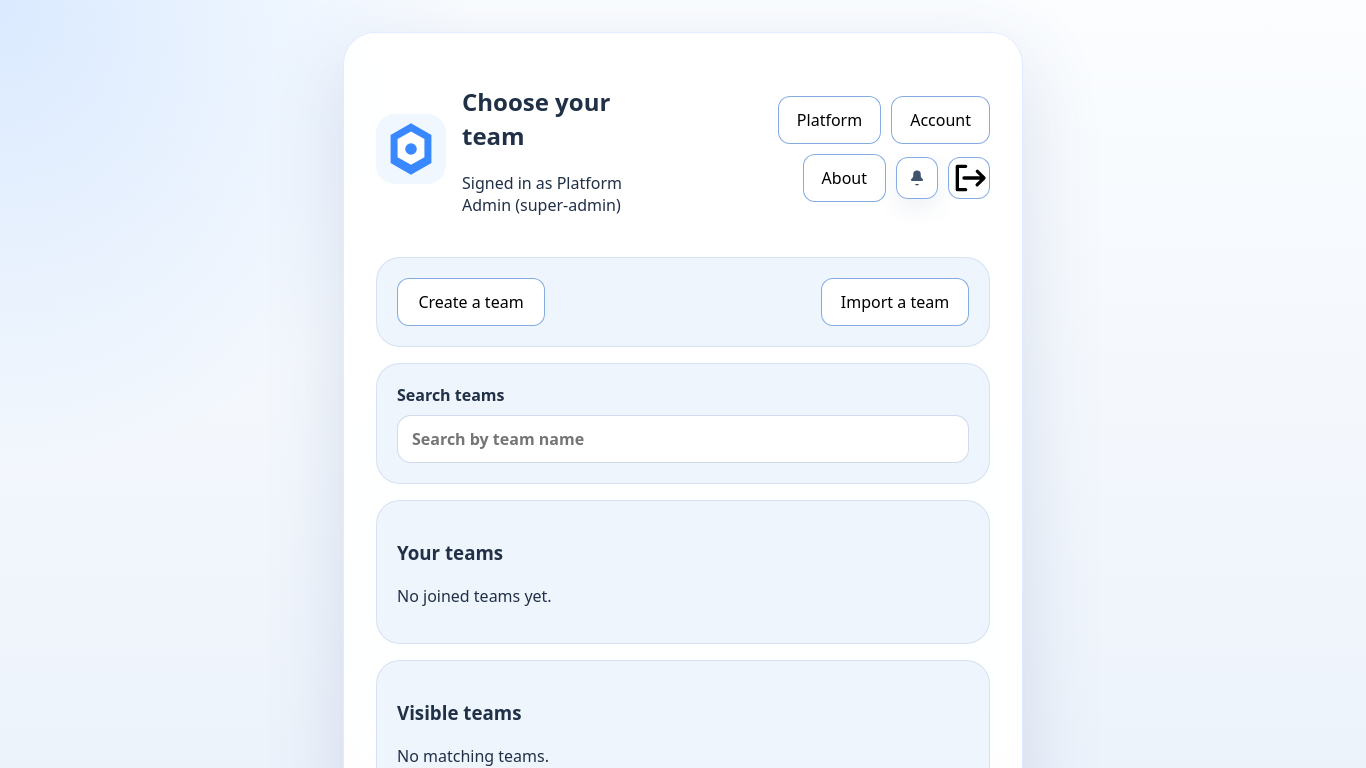
Test case: App › shows demo teams in the chooser after the super-admin enables demo mode
Step 1. Click the button "Platform" → point(830, 120), box [778,96,881,144]
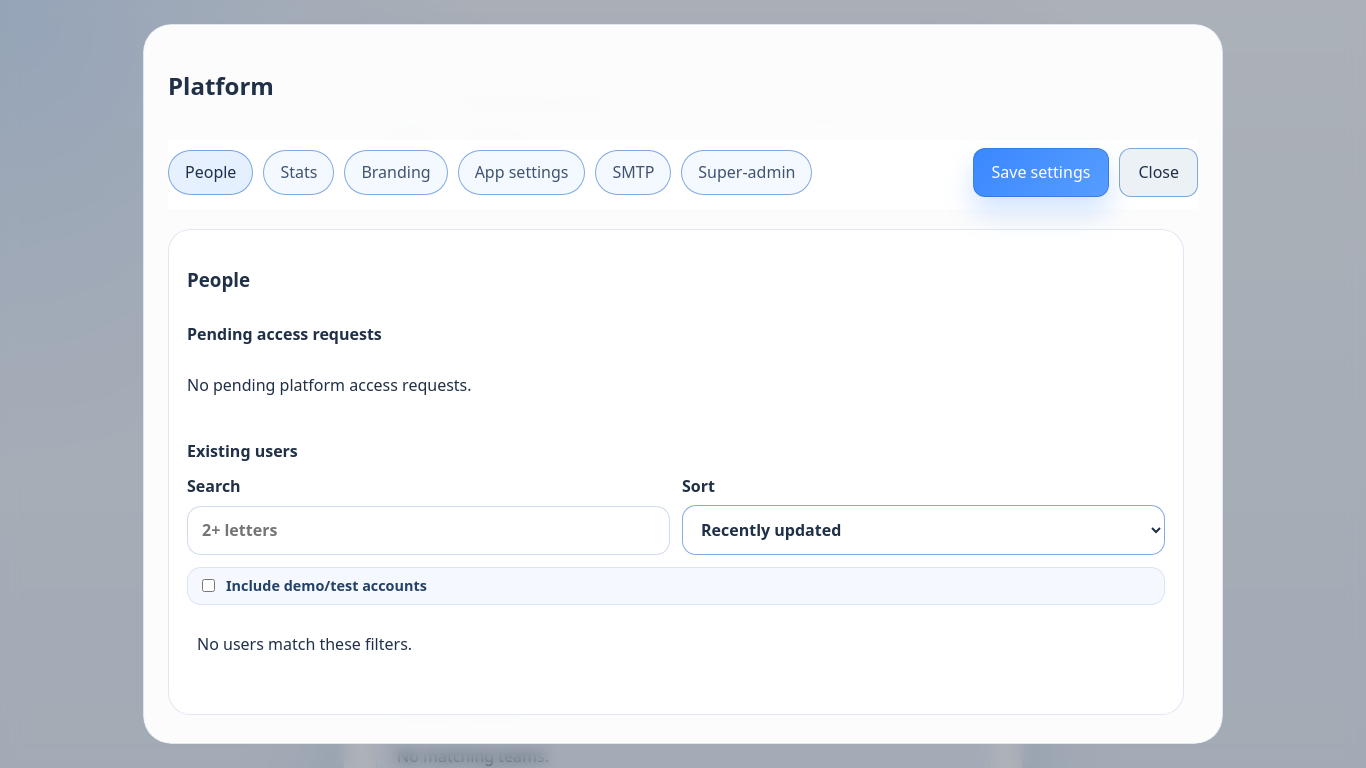
Expected: the dialog "Platform" is shown
Step 2. Click the tab "App settings" → point(522, 173), box [458,150,585,195]
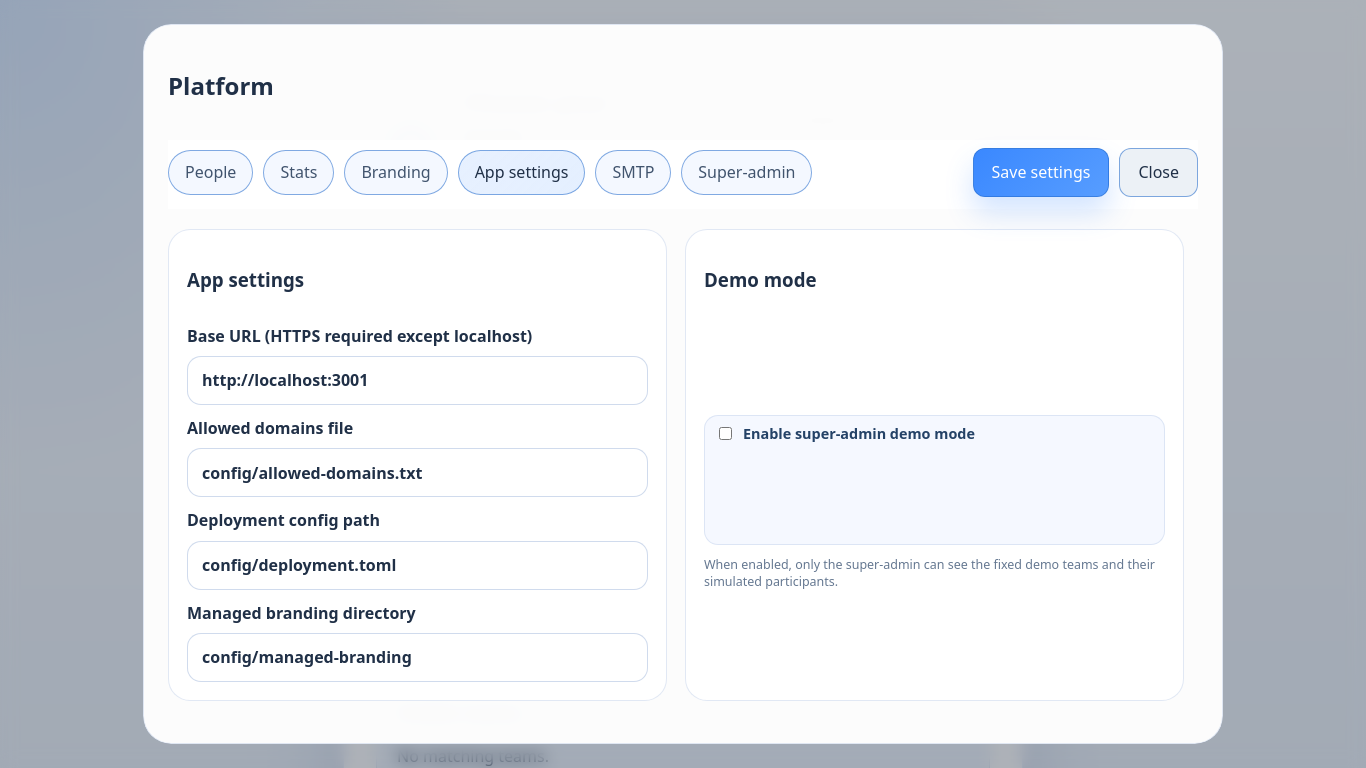
Step 3. Click the checkbox labelled "Enable super-admin demo mode" → point(726, 433), box [719,427,732,440]
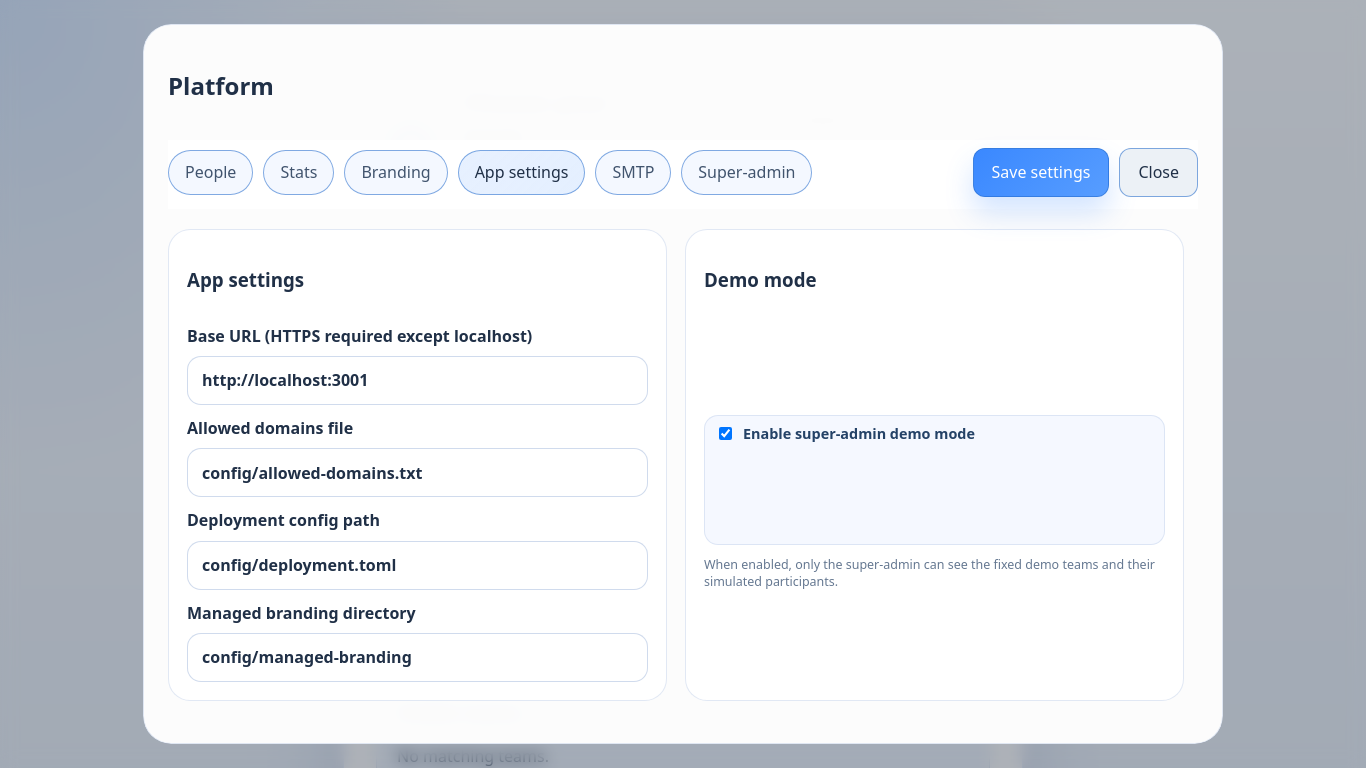
Step 4. Click the button "Save settings" → point(1041, 173), box [972,148,1109,197]
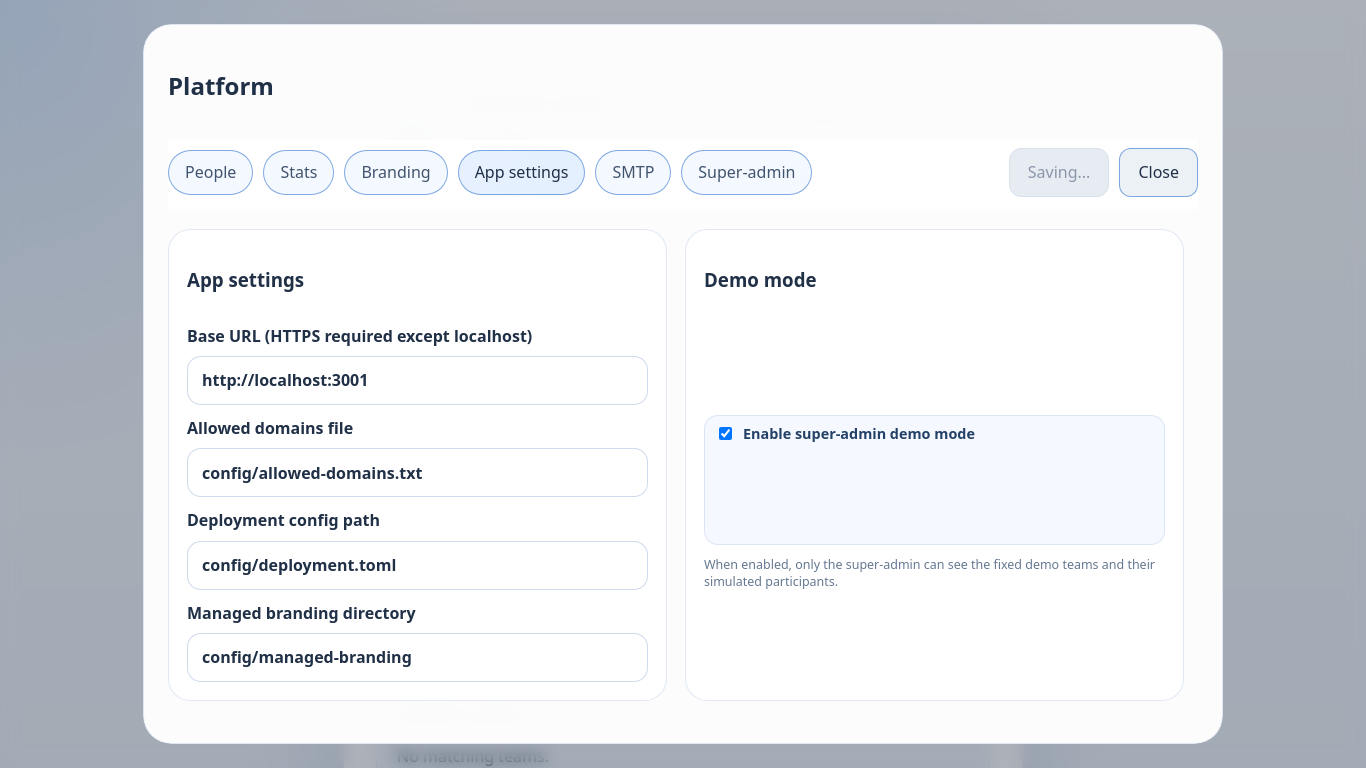
Step 5. Click the button "Close" → point(1159, 173), box [1119,148,1198,197]
(page scrolled)
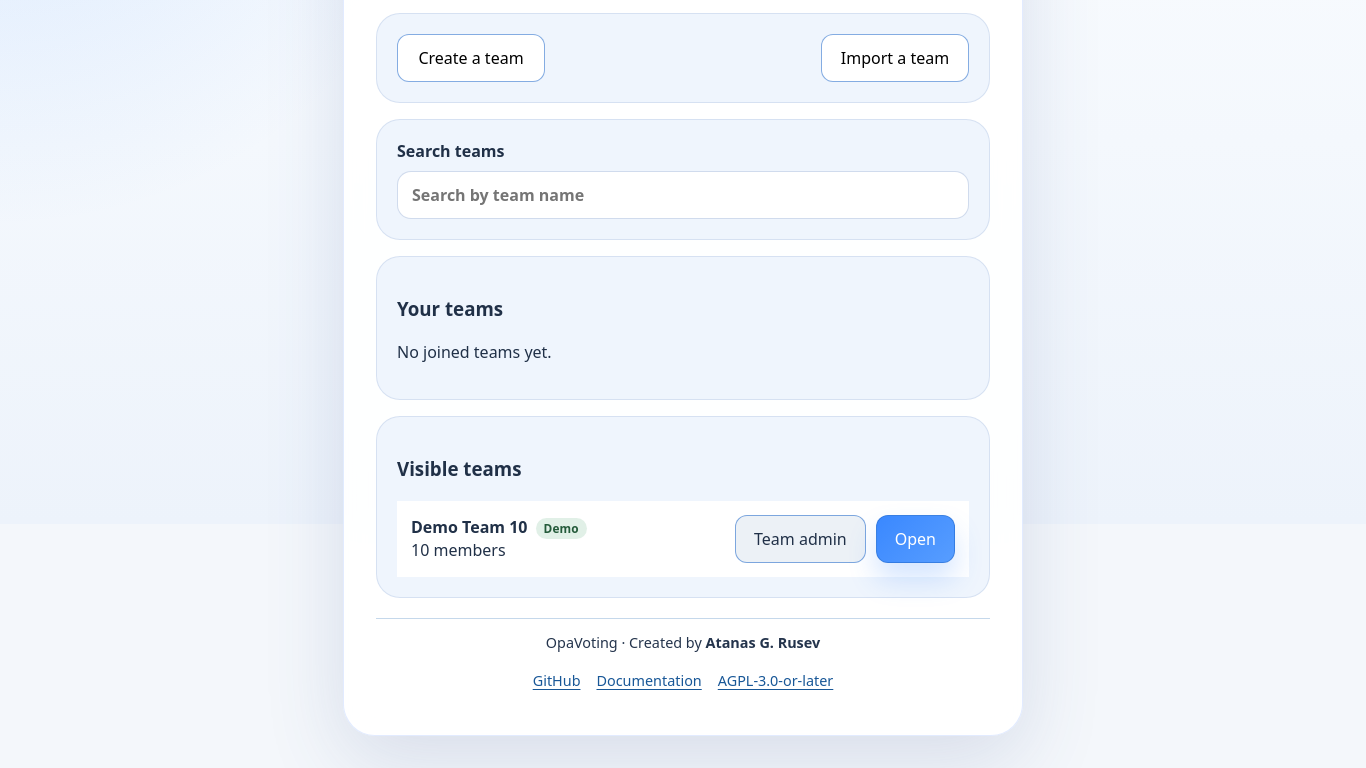
Expected: the text "Demo" is shown, [536,518,587,539]
Expected: the text "Demo Team 10" is shown, [411,516,528,538]
